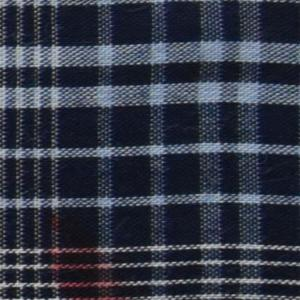Stain: (40, 211, 142, 300)
